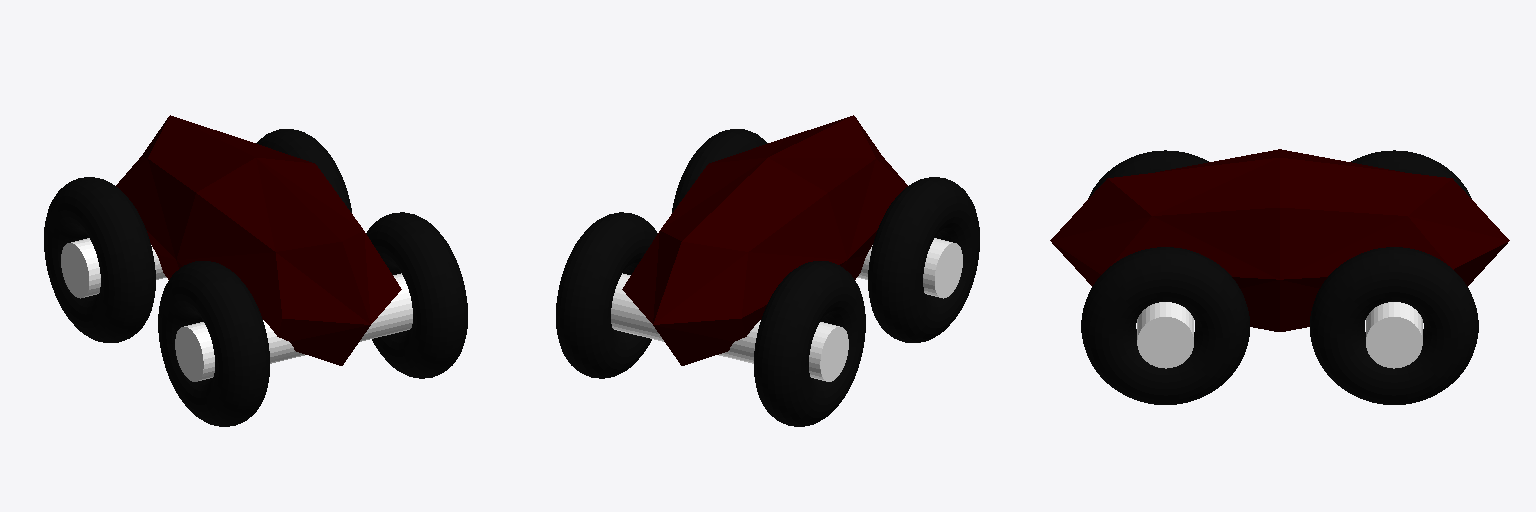
The model's file is Ugly_Car.obj.
3 views of the same model, side by side, from view 1: azimuth 30°, elevation 25°; view 2: azimuth 150°, elevation 25°; view 3: azimuth 270°, elevation 25° (orthographic).
Parts seen in each view (by area): view 1: Torus.003; view 2: Torus.003; view 3: Torus.003.
Boxes of the visible parts, x1=… form: Torus.003: x1=44, y1=115, x2=467, y2=426; Torus.003: x1=556, y1=115, x2=979, y2=426; Torus.003: x1=1050, y1=149, x2=1509, y2=404.
Size of the model in its own units: 1 by 0.761 by 1.61.